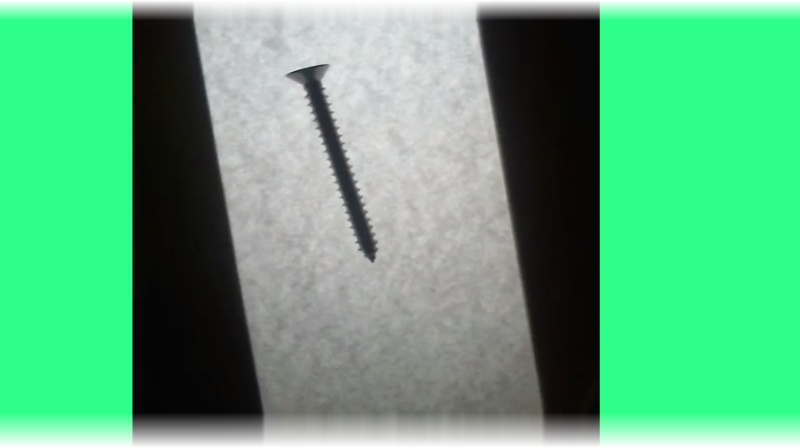S002: (280, 60, 379, 267)
